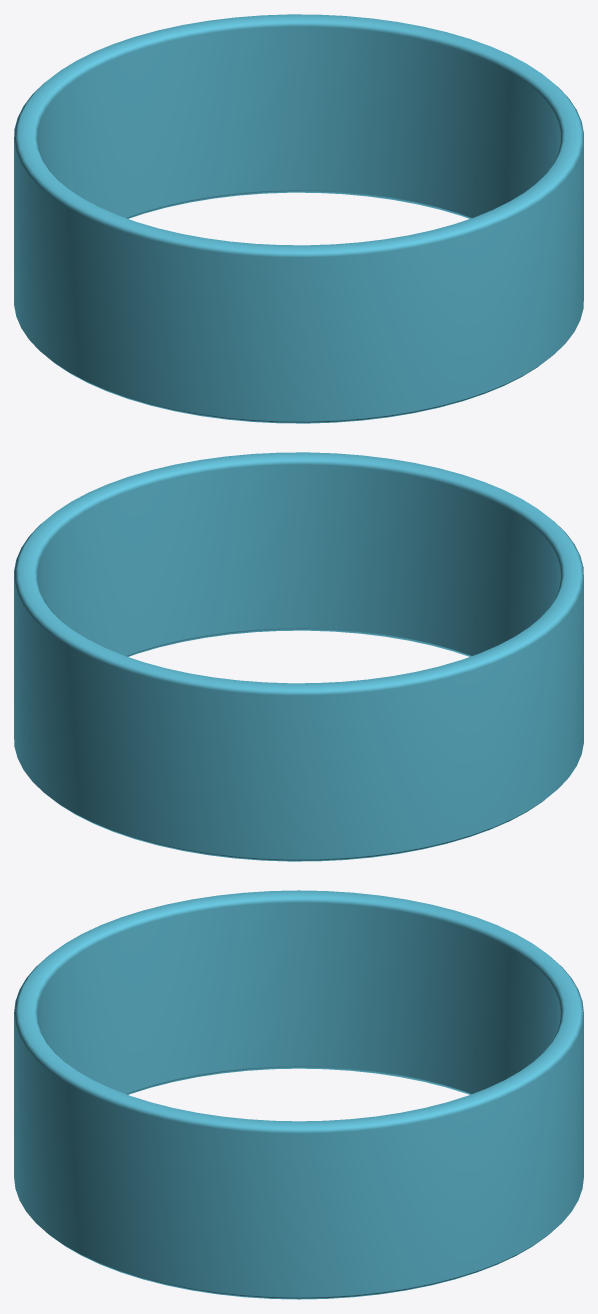
3 renders of one model, top to bottom at view 1: azimuth 30°, elevation 25°; view 2: azimuth 150°, elevation 25°; view 3: azimuth 270°, elevation 25°, orthographic.
Parts seen in each view (by area): view 1: seal_body; view 2: seal_body; view 3: seal_body.
Part boxes in pixels (x1,y1,x2,y2): seal_body: (14,14,583,423); seal_body: (14,452,583,861); seal_body: (14,890,583,1299).
Size of the model in its own units: 0.0762 by 0.0254 by 0.0762.
